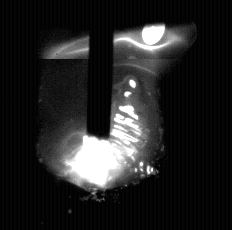arame: (87, 0, 111, 141)
poca: (37, 0, 162, 230)
